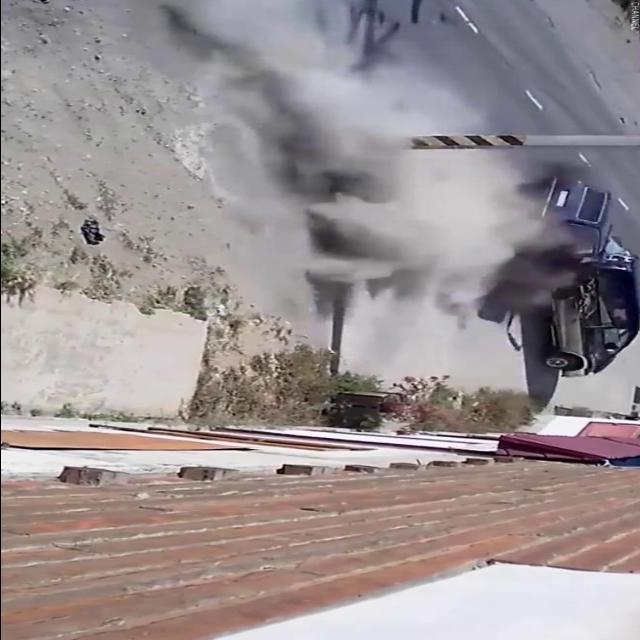accident: (333, 147, 640, 381)
